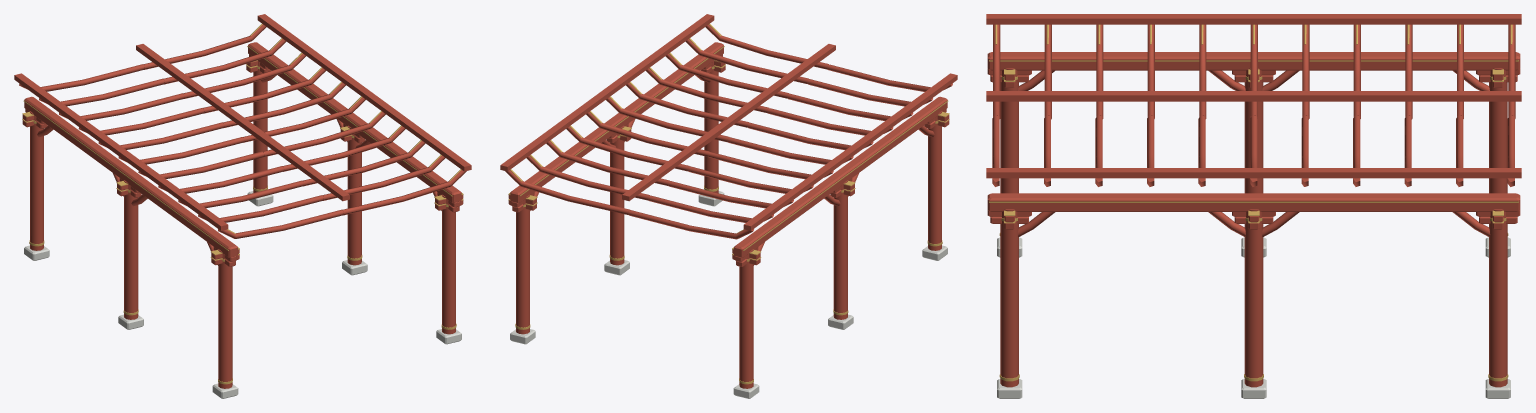
Rendered from pergola.glb.
3 views of the same model, side by side, from view 1: azimuth 30°, elevation 25°; view 2: azimuth 150°, elevation 25°; view 3: azimuth 270°, elevation 25° (orthographic). The views are drawn at different scales.
Visible parts, largest first — view 1: pergola_Timber, pergola_Gold, pergola_Stone; view 2: pergola_Timber, pergola_Gold, pergola_Stone; view 3: pergola_Timber, pergola_Gold, pergola_Stone.
Part boxes in pixels (box(x1,y1,x2,y2)): pergola_Timber: box(14, 14, 471, 388); pergola_Gold: box(22, 24, 463, 384); pergola_Stone: box(24, 191, 461, 398); pergola_Timber: box(500, 14, 957, 388); pergola_Gold: box(508, 24, 949, 384); pergola_Stone: box(510, 191, 947, 398); pergola_Timber: box(986, 14, 1521, 387); pergola_Gold: box(989, 24, 1518, 381); pergola_Stone: box(997, 237, 1510, 398).
Size of the model in its own units: 5.6 by 3.8 by 8.
